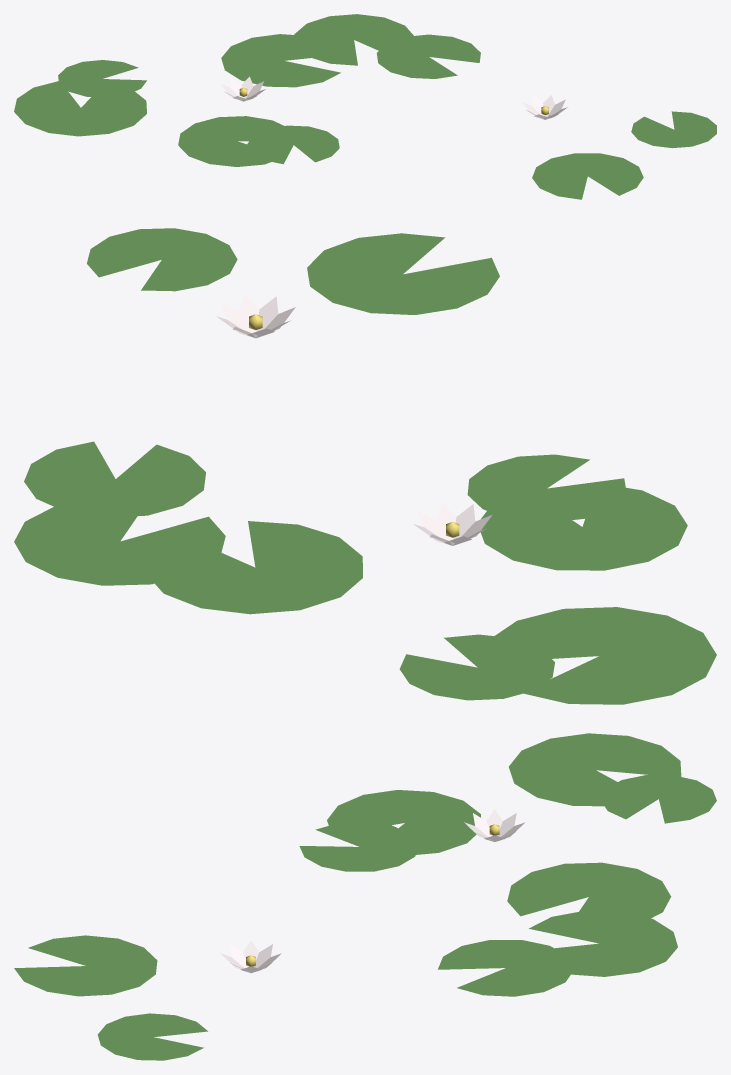
Rendered from lily_pads.glb.
3 views of the same model, one above another, from view 1: azimuth 30°, elevation 25°; view 2: azimuth 150°, elevation 25°; view 3: azimuth 270°, elevation 25° (orthographic). The views are drawn at different scales.
Visible parts, largest first — view 1: lily_pads; view 2: lily_pads; view 3: lily_pads.
Boxes of the visible parts, box(x1,y1,x2,y2) form: lily_pads: box(14, 14, 716, 199); lily_pads: box(14, 228, 716, 704); lily_pads: box(14, 733, 716, 1060).
Bounding box in the file's own units: 1.75 × 0.065 × 1.59.
